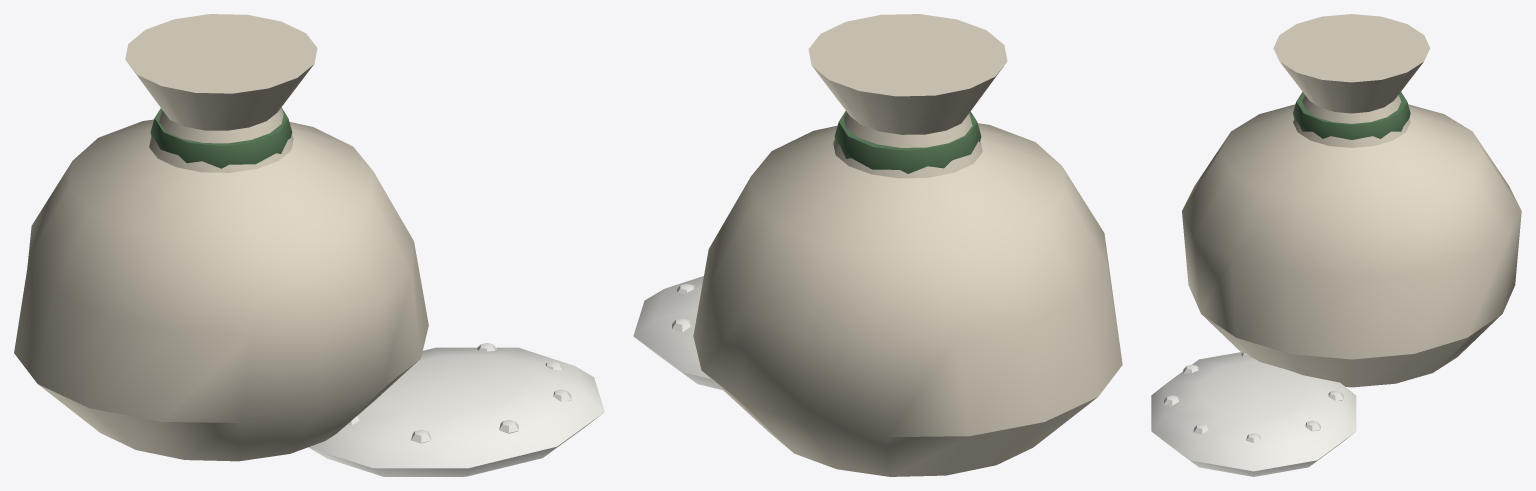
File: antidote.glb
3 views of the same model, side by side, from view 1: azimuth 30°, elevation 25°; view 2: azimuth 150°, elevation 25°; view 3: azimuth 270°, elevation 25° (orthographic). The views are drawn at different scales.
Parts seen in each view (by area): view 1: antidote; view 2: antidote; view 3: antidote.
Part boxes in pixels (x1,y1,x2,y2): antidote: [14, 14, 604, 476]; antidote: [633, 14, 1122, 476]; antidote: [1151, 14, 1521, 476].
Bounding box in the file's own units: 0.1459 × 0.109 × 0.1134.
